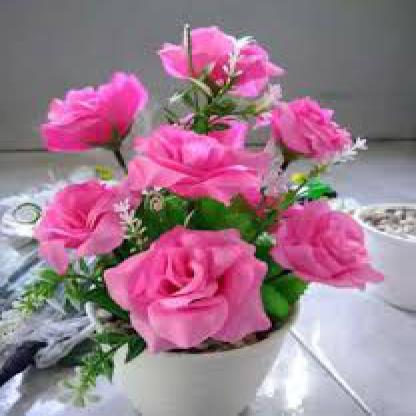Rose-Mawar: (29, 30, 389, 340)
